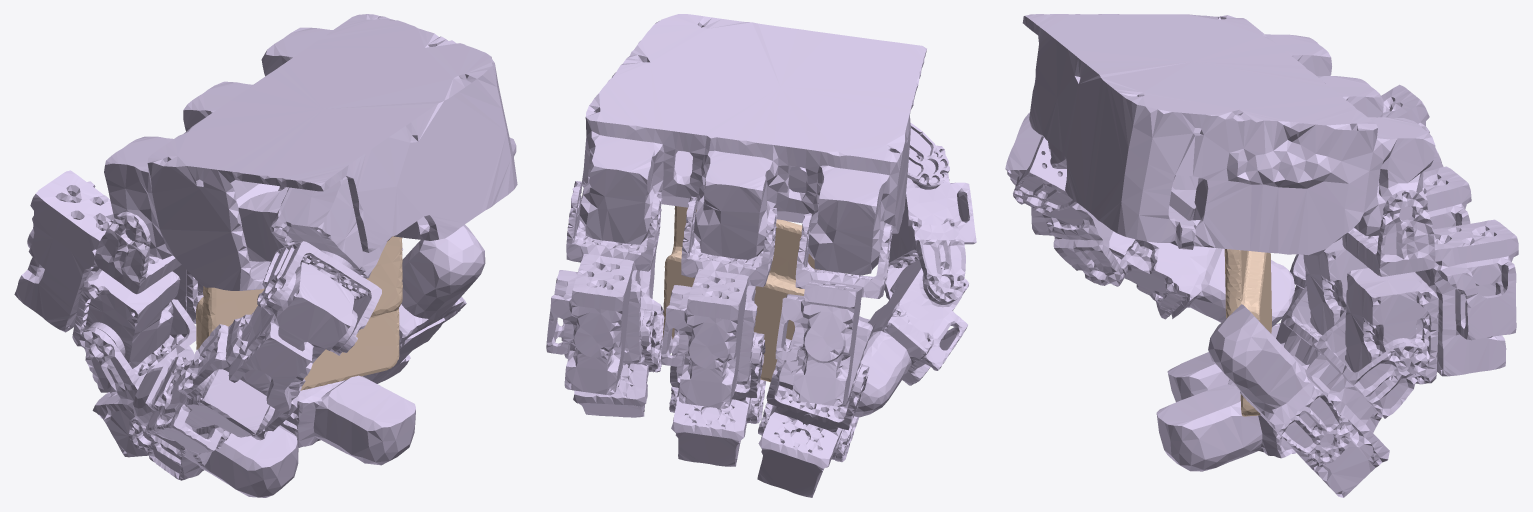
Rendered from 3b25fac5031142-closed.glb.
3 renders of one model, left to right at view 1: azimuth 30°, elevation 25°; view 2: azimuth 150°, elevation 25°; view 3: azimuth 270°, elevation 25°, orthographic. The views are drawn at different scales.
Visible parts, largest first — view 1: LEAP_hand, world; view 2: LEAP_hand, world; view 3: LEAP_hand, world.
Boxes of the visible parts, <box> form: LEAP_hand: <box>14,14,517,497</box>; world: <box>196,236,402,390</box>; LEAP_hand: <box>546,14,976,497</box>; world: <box>662,206,820,382</box>; LEAP_hand: <box>1005,14,1518,497</box>; world: <box>1224,249,1271,416</box>.
Bounding box in the file's own units: 0.1497 × 0.1541 × 0.1719.
